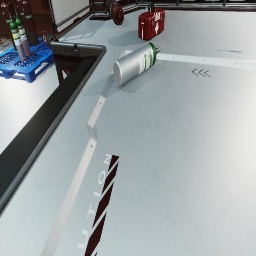0: (113, 43, 161, 87), (9, 12, 27, 61), (15, 9, 31, 56)
FirstAidBox ,: (138, 3, 165, 41)
NitrogenTank ,: (0, 0, 17, 51), (21, 0, 39, 46), (16, 0, 31, 41), (106, 0, 124, 25), (5, 0, 16, 23), (41, 30, 55, 48)
